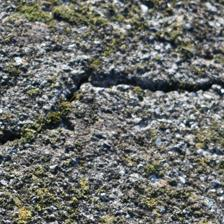Crack: (83, 65, 222, 105)
